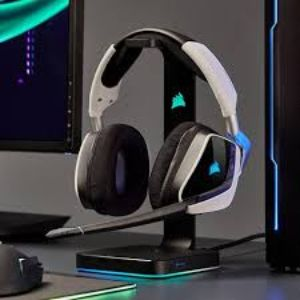headset: (44, 25, 249, 245)
